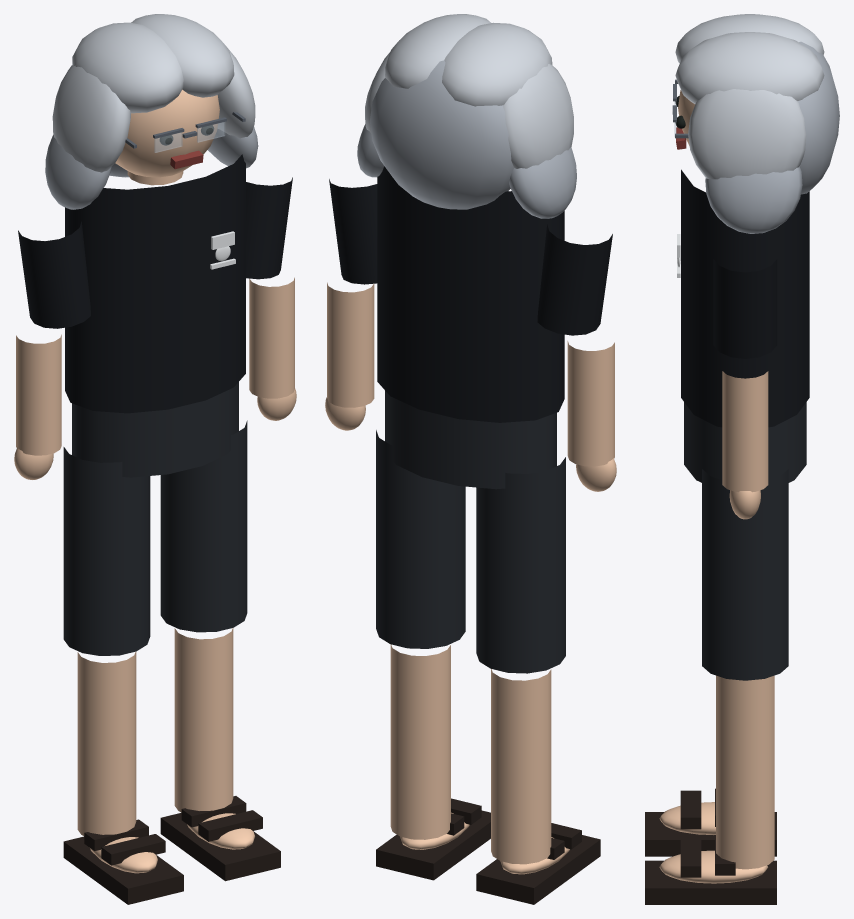
The model's file is yasu.vrm.glb.
3 views of the same model, side by side, from view 1: azimuth 30°, elevation 25°; view 2: azimuth 150°, elevation 25°; view 3: azimuth 270°, elevation 25° (orthographic). The views are drawn at different scales.
Parts seen in each view (by area): view 1: BlackTeeTorso, RightShortLeg, LeftShortLeg, RightBareCalf, LeftBareCalf, PelvisShorts, SilverHairCrownRight, SilverHairWaveUpperRight, RightTeeSleeve, HeadSkin, LeftForearmSkin, RightForearmSkin (+15 smaller); view 2: BlackTeeTorso, RightShortLeg, LeftShortLeg, SilverHairBackMane, RightBareCalf, LeftBareCalf, PelvisShorts, SilverHairCrownRight, RightTeeSleeve, LeftForearmSkin, RightForearmSkin, SilverHairWaveUpperRight (+10 smaller); view 3: BlackTeeTorso, LeftShortLeg, LeftBareCalf, SilverHairWaveUpperLeft, SilverHairCrownLeft, LeftTeeSleeve, LeftForearmSkin, SilverHairWaveShoulderLeft, PelvisShorts, LeftSandalSole, SilverHairBackMane, SilverHairCrownRight (+7 smaller).
Boxes of the visible parts, bbox=[...] form: BlackTeeTorso: bbox=[65, 154, 245, 413]; RightShortLeg: bbox=[63, 447, 150, 655]; LeftShortLeg: bbox=[160, 420, 247, 632]; RightBareCalf: bbox=[77, 652, 136, 835]; LeftBareCalf: bbox=[174, 628, 233, 812]; PelvisShorts: bbox=[72, 382, 238, 477]; SilverHairCrownRight: bbox=[72, 22, 183, 113]; SilverHairWaveUpperRight: bbox=[52, 65, 130, 172]; RightTeeSleeve: bbox=[18, 221, 90, 328]; HeadSkin: bbox=[115, 89, 219, 177]; LeftForearmSkin: bbox=[249, 277, 294, 398]; RightForearmSkin: bbox=[16, 334, 61, 455]; BlackTeeTorso: bbox=[377, 166, 564, 422]; RightShortLeg: bbox=[476, 457, 565, 673]; LeftShortLeg: bbox=[376, 430, 465, 648]; SilverHairBackMane: bbox=[369, 60, 513, 209]; RightBareCalf: bbox=[491, 669, 551, 864]; LeftBareCalf: bbox=[390, 644, 450, 839]; PelvisShorts: bbox=[385, 391, 556, 489]; SilverHairCrownRight: bbox=[442, 22, 552, 106]; RightTeeSleeve: bbox=[537, 224, 612, 335]; LeftForearmSkin: bbox=[327, 282, 374, 407]; RightForearmSkin: bbox=[567, 341, 614, 466]; SilverHairWaveUpperRight: bbox=[503, 64, 573, 168]; BlackTeeTorso: bbox=[681, 169, 809, 427]; LeftShortLeg: bbox=[702, 469, 788, 680]; LeftBareCalf: bbox=[716, 678, 774, 869]; SilverHairWaveUpperLeft: bbox=[688, 89, 806, 179]; SilverHairCrownLeft: bbox=[675, 32, 824, 103]; LeftTeeSleeve: bbox=[713, 259, 777, 358]; LeftForearmSkin: bbox=[722, 371, 768, 492]; SilverHairWaveShoulderLeft: bbox=[705, 166, 802, 233]; PelvisShorts: bbox=[684, 402, 806, 482]; LeftSandalSole: bbox=[645, 860, 776, 904]; SilverHairBackMane: bbox=[798, 41, 839, 194]; SilverHairCrownRight: bbox=[675, 14, 824, 63].
Size of the model in its own units: 0.575 by 1.61 by 0.34.
